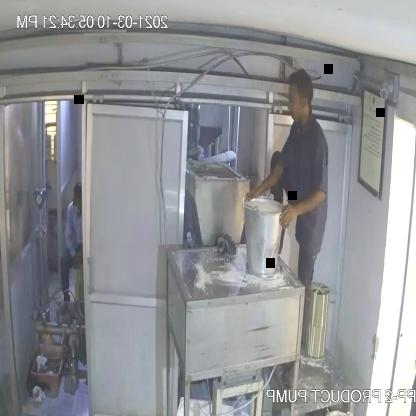no_glove: (277, 183, 332, 240), (246, 156, 289, 207)
